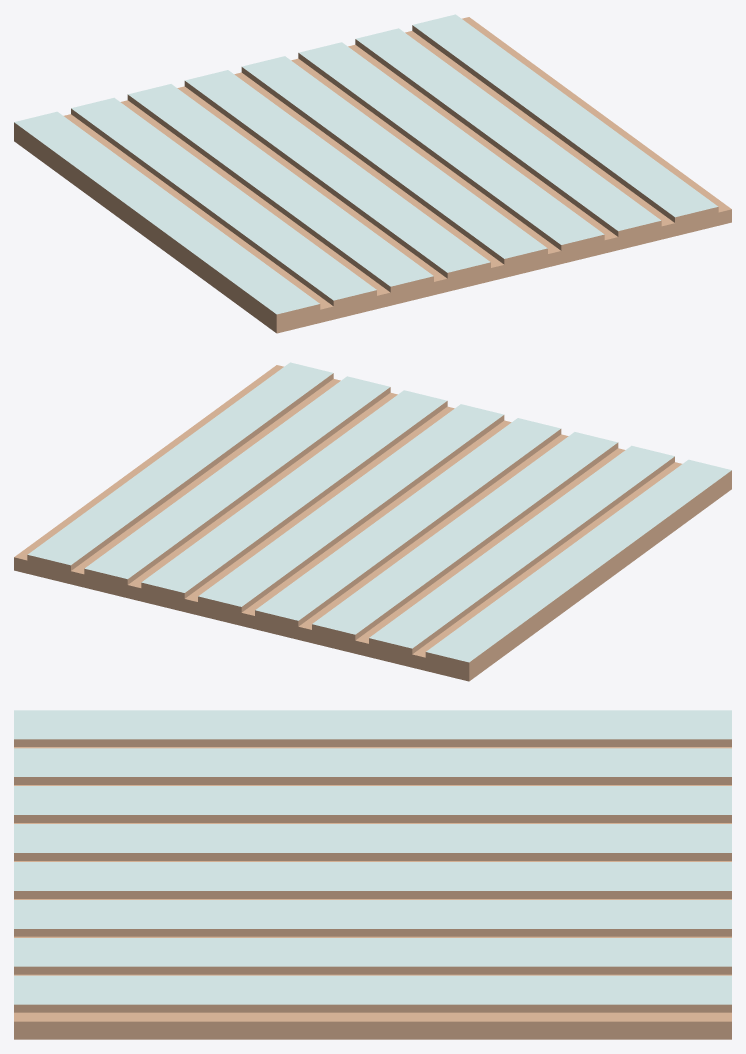
Rendered from cabinRoofFlat.glb.
The picture shows the model from 3 angles, top to bottom: view 1: azimuth 30°, elevation 25°; view 2: azimuth 150°, elevation 25°; view 3: azimuth 270°, elevation 25°; orthographic projection. The views are drawn at different scales.
Parts seen in each view (by area): view 1: cabinRoofFlat(Clone); view 2: cabinRoofFlat(Clone); view 3: cabinRoofFlat(Clone).
Boxes of the visible parts, <box> form: cabinRoofFlat(Clone): <box>14,14,731,333</box>; cabinRoofFlat(Clone): <box>14,362,731,681</box>; cabinRoofFlat(Clone): <box>14,710,731,1039</box>.
Size of the model in its own units: 1 by 0.04 by 1.
